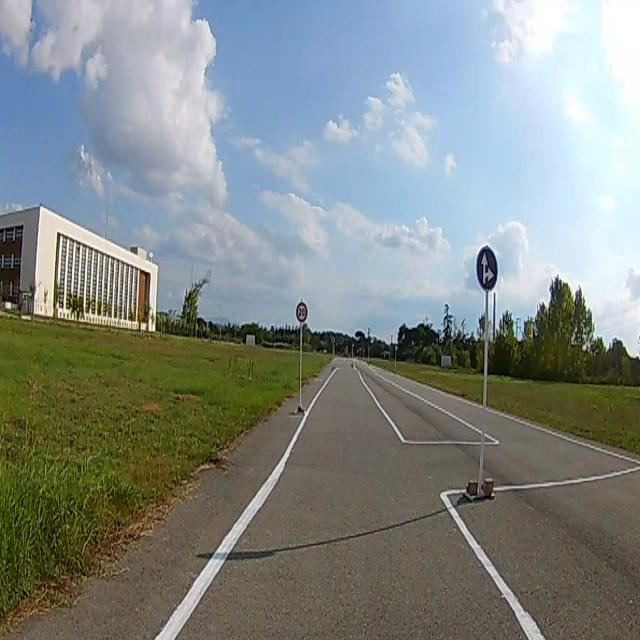20: (296, 301, 308, 322)
ilerisag: (476, 246, 498, 290)
